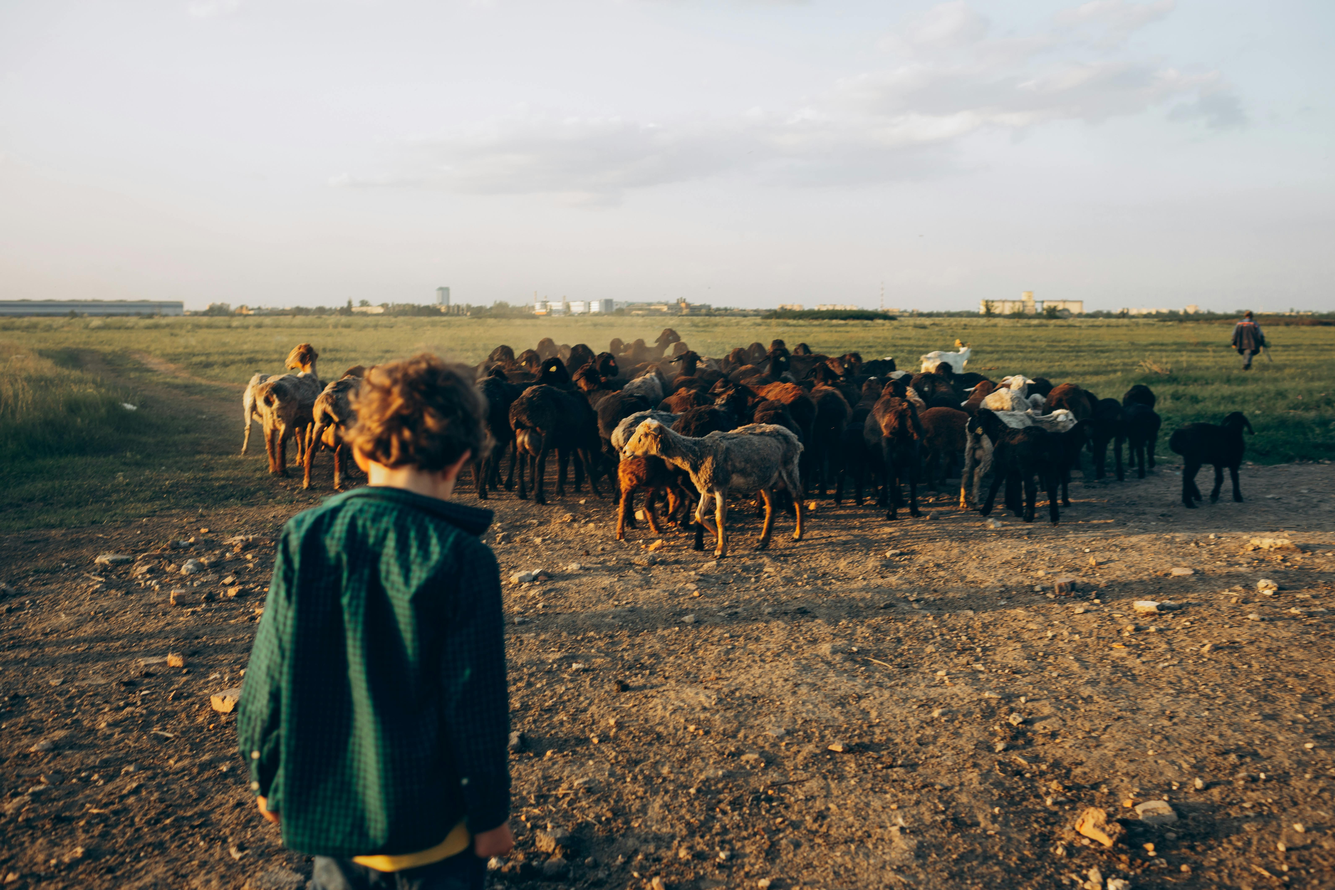Human: (221, 332, 557, 890)
